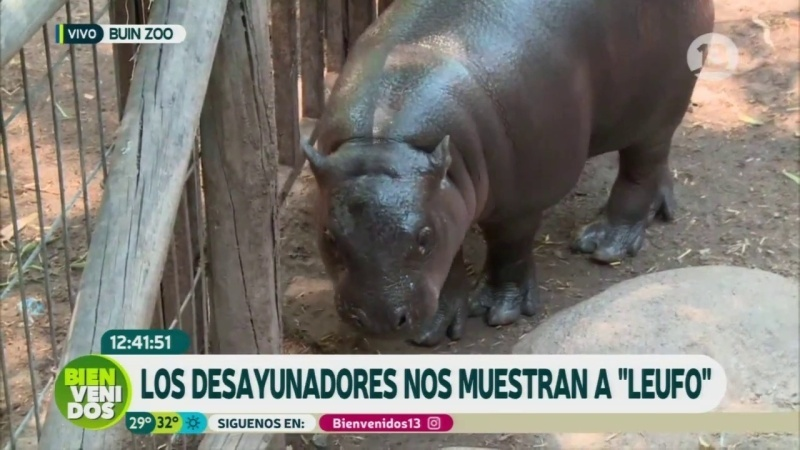hipopotamo: (285, 1, 716, 333)
